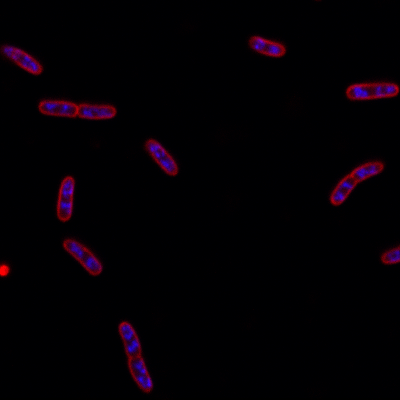Control: (115, 318, 154, 393), (329, 158, 387, 207), (37, 98, 118, 120), (61, 236, 104, 277), (142, 138, 180, 177), (344, 80, 399, 102), (55, 174, 76, 222), (247, 33, 286, 57)
Oblique: (1, 41, 43, 79)
